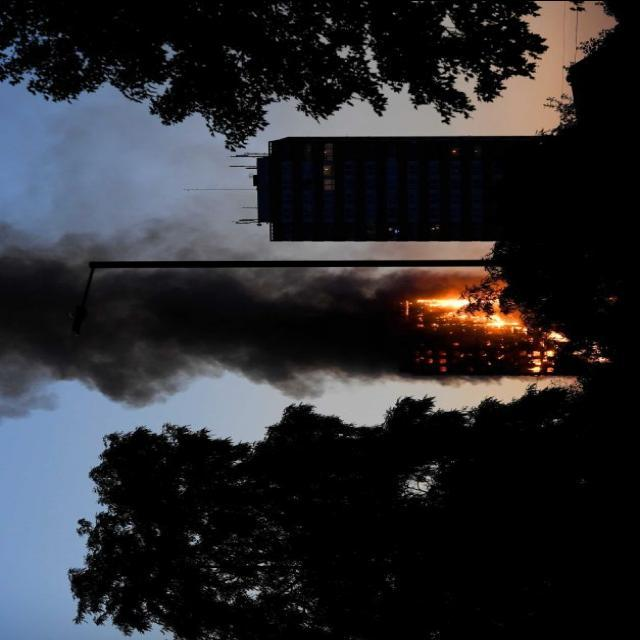Fire: (401, 282, 578, 373)
